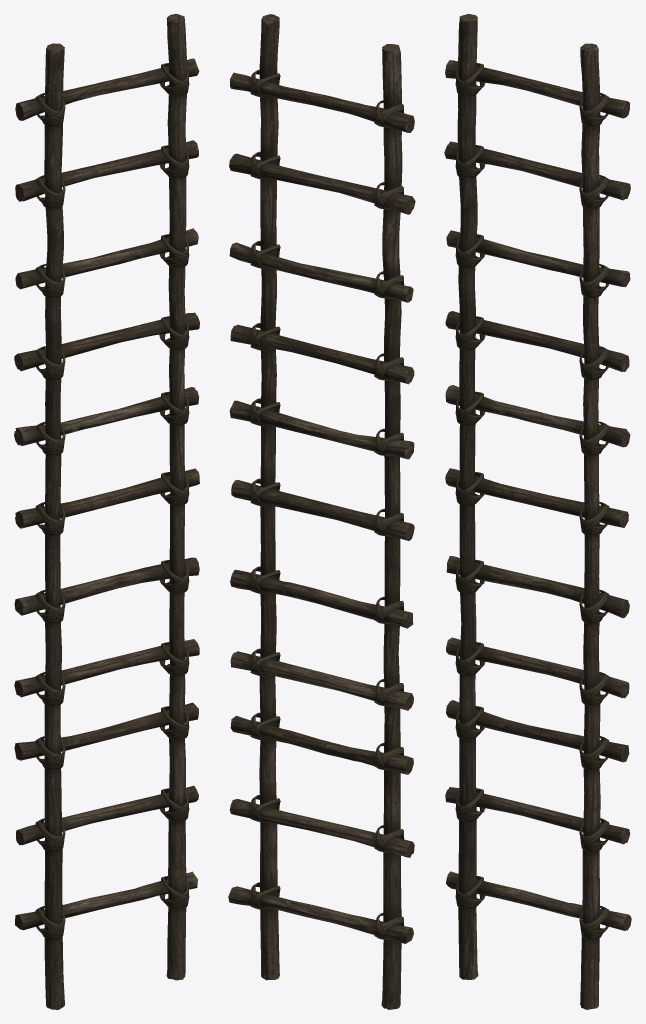
Rendered from SM_ladder_01.fbx.
The picture shows the model from 3 angles, left to right: view 1: azimuth 30°, elevation 25°; view 2: azimuth 150°, elevation 25°; view 3: azimuth 330°, elevation 25°; orthographic projection.
Parts seen in each view (by area): view 1: SM_ladder_02; view 2: SM_ladder_02; view 3: SM_ladder_02.
Boxes of the visible parts, left/top/right/bottom form: SM_ladder_02: left=14, top=14, right=199, bottom=1009; SM_ladder_02: left=228, top=14, right=415, bottom=1009; SM_ladder_02: left=444, top=14, right=631, bottom=1009.
Size of the model in its own units: 87.79 by 455 by 17.69.
Materials: 1 (1 with a texture image).
